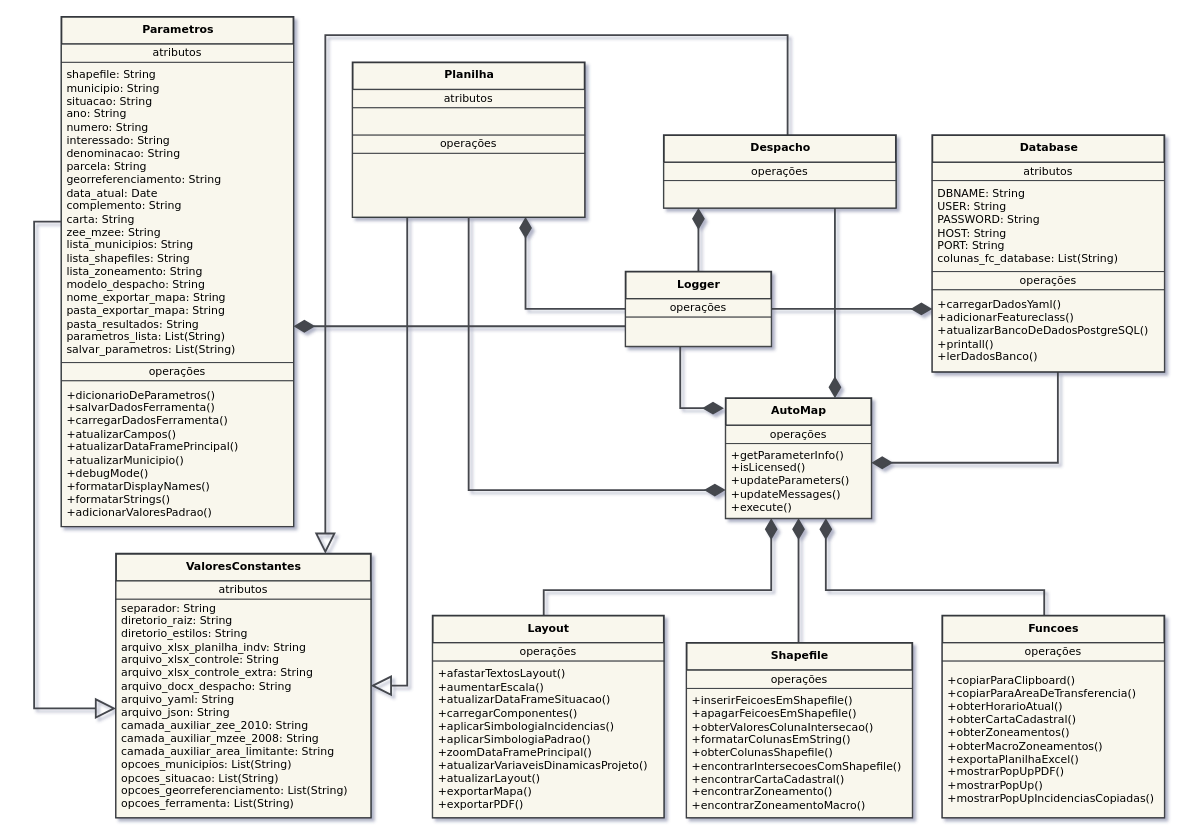
This 1186x839 diagram has some shape labels left out. The shapes that lost their labels are listed below. From the top down, each one's centre as x and y in pixels, then its label:
At point (468, 121): "colunas: List(String)".
At point (468, 184): "+buildXlsx() +criarDados() +adicionarParaControle() +criarPlanilhaIndividual()".
At point (779, 194): "+buildDocx()".
At point (698, 331): "+setupLogger()".
